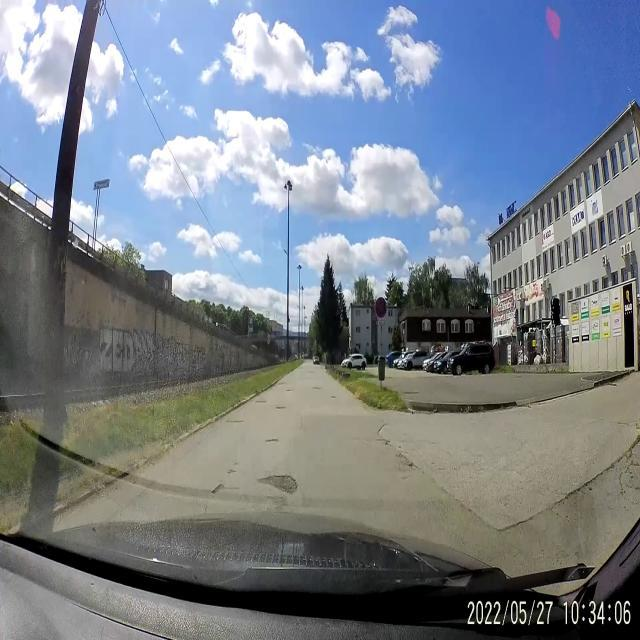Pothole: (258, 473, 298, 501), (394, 452, 416, 474), (210, 476, 227, 498), (376, 430, 392, 450), (226, 458, 241, 474), (224, 418, 246, 426), (264, 436, 281, 444), (275, 404, 287, 414), (255, 398, 268, 405), (312, 386, 322, 392), (331, 394, 337, 400), (286, 389, 294, 393)
